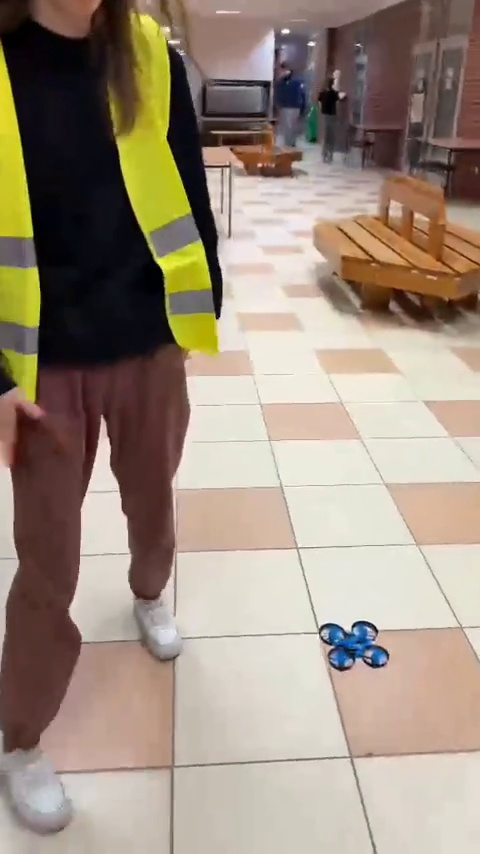drone: (315, 622, 388, 674)
no vest: (272, 58, 309, 155), (317, 79, 343, 162)
vest: (0, 3, 206, 820)
